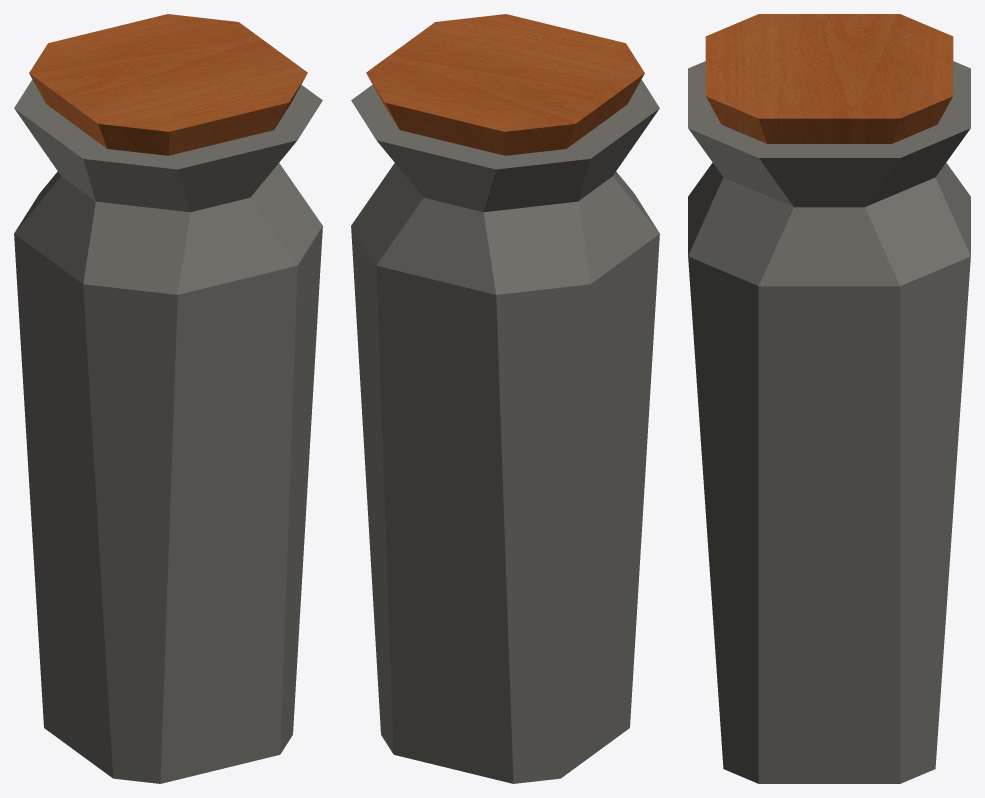
File: bottlea.gltf
3 views of the same model, side by side, from view 1: azimuth 30°, elevation 25°; view 2: azimuth 150°, elevation 25°; view 3: azimuth 270°, elevation 25° (orthographic). The views are drawn at different scales.
Visible parts, largest first — view 1: potion, Cork; view 2: potion, Cork; view 3: potion, Cork.
Boxes of the visible parts, x1=… form: potion: x1=14, y1=79, x2=322, y2=783; Cork: x1=29, y1=14, x2=307, y2=155; potion: x1=351, y1=79, x2=659, y2=783; Cork: x1=366, y1=14, x2=644, y2=155; potion: x1=688, y1=61, x2=970, y2=783; Cork: x1=705, y1=14, x2=953, y2=143.
Bounding box in the file's own units: 0.0878 × 0.2304 × 0.0878.
3 materials, 2 textured.
